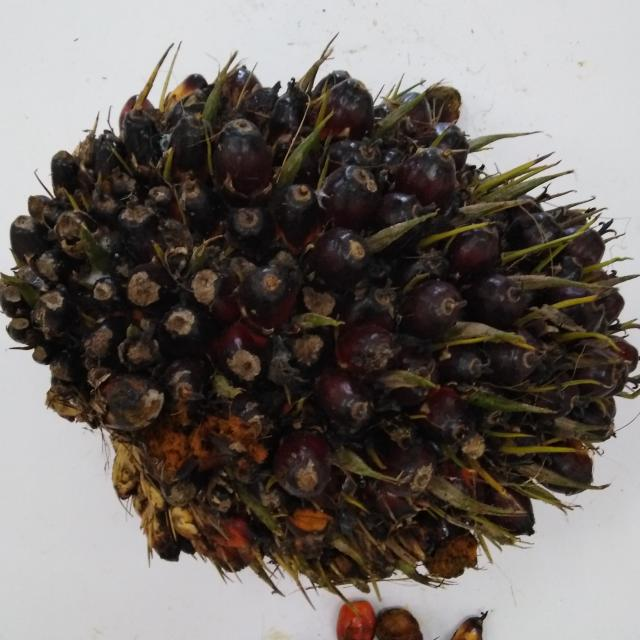FFB: (15, 79, 620, 586)
